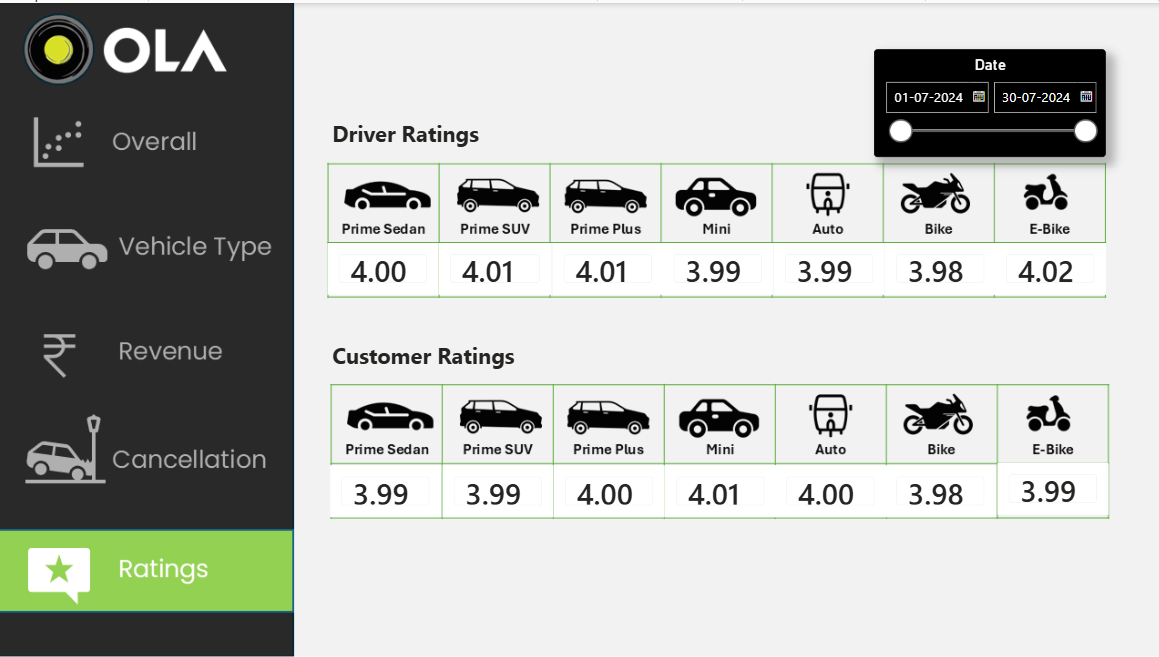

This screenshot's page, from the dashboard's own definition file:
{"tool":"powerbi","page":{"name":"Ratings","canvas":[1280,720],"ordinal":4},"visuals":[{"type":"actionButton","box":[0,227.6,323.2,88.3],"z":0},{"type":"actionButton","box":[1,345,323.2,88.3],"z":1000},{"type":"actionButton","box":[0,449,323.2,88.3],"z":2000},{"type":"actionButton","box":[1,111.2,323.2,88.3],"z":3000},{"type":"cardVisual","fields":{"Data":["Avg(July.Driver_Ratings)"]},"box":[361.4,263.6,121.5,56.8],"z":4000},{"type":"cardVisual","fields":{"Data":["Avg(July.Driver_Ratings)"]},"box":[483,263.6,123.1,56.8],"z":5000},{"type":"cardVisual","fields":{"Data":["Avg(July.Driver_Ratings)"]},"box":[607.6,263.6,121.5,56.8],"z":6000},{"type":"cardVisual","fields":{"Data":["Avg(July.Driver_Ratings)"]},"box":[729.2,263.6,121.5,56.8],"z":7000},{"type":"cardVisual","fields":{"Data":["Avg(July.Driver_Ratings)"]},"box":[850.7,263.6,121.5,56.8],"z":8000},{"type":"cardVisual","fields":{"Data":["Avg(July.Driver_Ratings)"]},"box":[972.2,263.6,121.5,56.8],"z":9000},{"type":"cardVisual","fields":{"Data":["Avg(July.Driver_Ratings)"]},"box":[1093.8,263.6,121.5,56.8],"z":10000},{"type":"textbox","box":[361.4,121.5,172,45.8],"z":11000},{"type":"textbox","box":[361.4,366.2,219.4,45.8],"z":12000},{"type":"cardVisual","fields":{"Data":["Avg(July.Customer_Rating)"]},"box":[363,508.2,121.5,56.8],"z":13000},{"type":"cardVisual","fields":{"Data":["Avg(July.Customer_Rating)"]},"box":[487.7,508.2,121.5,56.8],"z":14000},{"type":"cardVisual","fields":{"Data":["Avg(July.Customer_Rating)"]},"box":[609.2,508.2,121.5,56.8],"z":15000},{"type":"cardVisual","fields":{"Data":["Avg(July.Customer_Rating)"]},"box":[730.8,508.2,121.5,56.8],"z":16000},{"type":"cardVisual","fields":{"Data":["Avg(July.Customer_Rating)"]},"box":[852.3,508.2,121.5,56.8],"z":17000},{"type":"cardVisual","fields":{"Data":["Avg(July.Customer_Rating)"]},"box":[972.2,508.2,121.5,56.8],"z":18000},{"type":"cardVisual","fields":{"Data":["Avg(July.Customer_Rating)"]},"box":[1096.9,505.1,121.5,56.8],"z":19000},{"type":"slicer","title":"Date","fields":{"Values":["July.Date"]},"box":[961.2,50.5,254.1,118.4],"z":20000}]}

Visuals, with their boxes on the page's 1280x720 design canvas (x1, y1, x2, y2). These are canvas units, not pixel positions in the 1159x657 screenshot, which may show the page scaled, cropped or inside an application window:
actionButton: locate(0, 228, 323, 316)
actionButton: locate(1, 345, 324, 433)
actionButton: locate(0, 449, 323, 537)
actionButton: locate(1, 111, 324, 200)
cardVisual - Avg(July.Driver_Ratings): locate(361, 264, 483, 320)
cardVisual - Avg(July.Driver_Ratings): locate(483, 264, 606, 320)
cardVisual - Avg(July.Driver_Ratings): locate(608, 264, 729, 320)
cardVisual - Avg(July.Driver_Ratings): locate(729, 264, 851, 320)
cardVisual - Avg(July.Driver_Ratings): locate(851, 264, 972, 320)
cardVisual - Avg(July.Driver_Ratings): locate(972, 264, 1094, 320)
cardVisual - Avg(July.Driver_Ratings): locate(1094, 264, 1215, 320)
textbox: locate(361, 122, 533, 167)
textbox: locate(361, 366, 581, 412)
cardVisual - Avg(July.Customer_Rating): locate(363, 508, 484, 565)
cardVisual - Avg(July.Customer_Rating): locate(488, 508, 609, 565)
cardVisual - Avg(July.Customer_Rating): locate(609, 508, 731, 565)
cardVisual - Avg(July.Customer_Rating): locate(731, 508, 852, 565)
cardVisual - Avg(July.Customer_Rating): locate(852, 508, 974, 565)
cardVisual - Avg(July.Customer_Rating): locate(972, 508, 1094, 565)
cardVisual - Avg(July.Customer_Rating): locate(1097, 505, 1218, 562)
"Date" slicer: locate(961, 50, 1215, 169)
